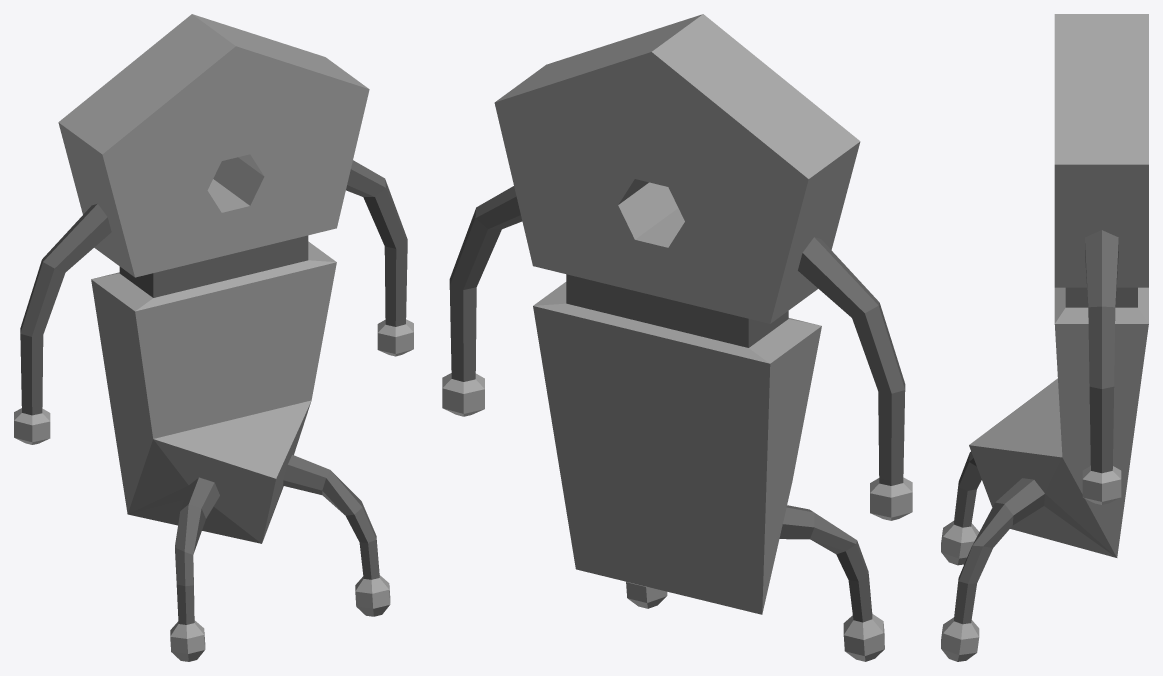
Rendered from Toeni3.glb.
3 renders of one model, left to right at view 1: azimuth 30°, elevation 25°; view 2: azimuth 150°, elevation 25°; view 3: azimuth 270°, elevation 25°, orthographic. The views are drawn at different scales.
Visible parts, largest first — view 1: Toeni3; view 2: Toeni3; view 3: Toeni3.
Boxes of the visible parts, x1,y1,x2,y2 form: Toeni3: [14, 14, 413, 661]; Toeni3: [442, 14, 912, 661]; Toeni3: [941, 14, 1148, 661].
Bounding box in the file's own units: 7.81 × 10.42 × 3.29.
Materials: 1 (1 with a texture image).
